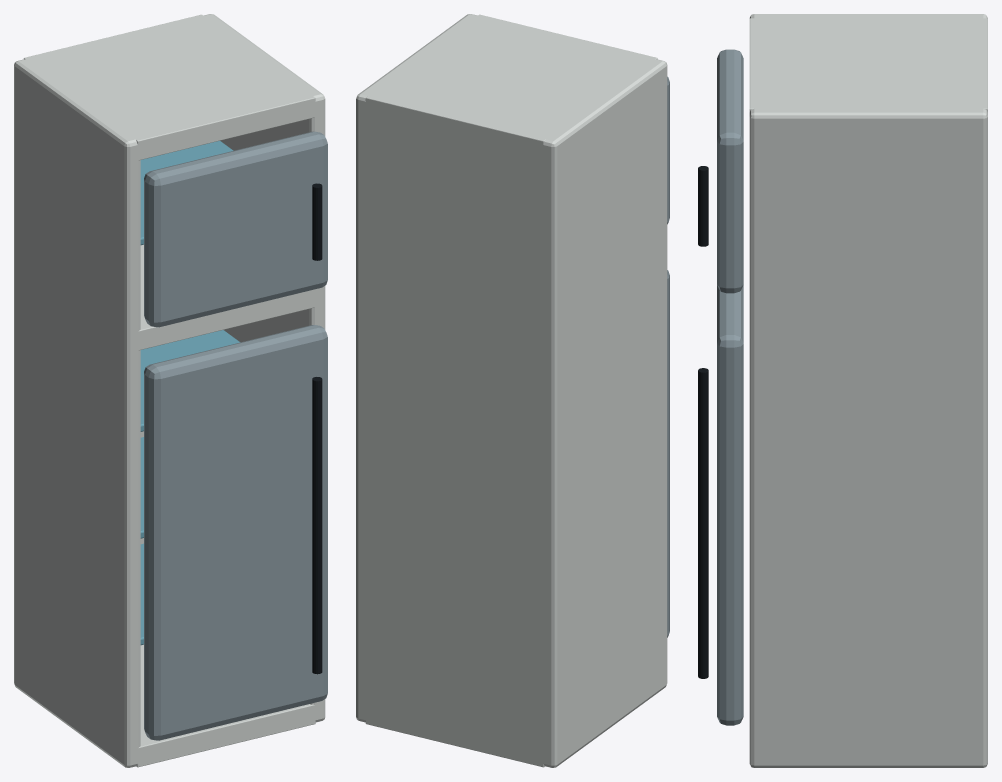
The picture shows the model from 3 angles, left to right: view 1: azimuth 30°, elevation 25°; view 2: azimuth 150°, elevation 25°; view 3: azimuth 270°, elevation 25°; orthographic projection. The views are drawn at different scales.
Parts seen in each view (by area): view 1: BODY_Side.001, DOOR_Panel, DOOR_Panel.001, BODY_Slab, BODY_Side, BODY_Slab.001, BODY_Slab.002, HANDLE, INTERIOR_Shelf.002, INTERIOR_Shelf.003, HANDLE.001; view 2: BODY_Back, BODY_Side.001, BODY_Slab, BODY_Side, BODY_Slab.001, BODY_Slab.002, DOOR_Panel; view 3: BODY_Side, BODY_Slab, DOOR_Panel, DOOR_Panel.001, HANDLE, BODY_Side.001, HANDLE.001.
Boxes of the visible parts, x1,y1,x2,y2 form: BODY_Side.001: [14, 59, 140, 767]; DOOR_Panel: [144, 325, 327, 740]; DOOR_Panel.001: [144, 131, 327, 327]; BODY_Slab: [24, 14, 315, 160]; BODY_Side: [204, 14, 325, 722]; BODY_Slab.001: [136, 644, 315, 767]; BODY_Slab.002: [138, 244, 315, 350]; HANDLE: [312, 377, 322, 674]; INTERIOR_Shelf.002: [140, 330, 240, 431]; INTERIOR_Shelf.003: [140, 141, 233, 245]; HANDLE.001: [312, 183, 322, 260]; BODY_Back: [365, 91, 550, 767]; BODY_Side.001: [543, 59, 667, 767]; BODY_Slab: [366, 14, 657, 159]; BODY_Side: [356, 14, 477, 722]; BODY_Slab.001: [365, 705, 544, 767]; BODY_Slab.002: [366, 288, 543, 349]; DOOR_Panel: [667, 270, 669, 637]; BODY_Side: [749, 108, 987, 767]; BODY_Slab: [749, 18, 987, 111]; DOOR_Panel: [717, 285, 743, 725]; DOOR_Panel.001: [717, 49, 743, 293]; HANDLE: [698, 368, 708, 678]; BODY_Side.001: [750, 14, 987, 18]; HANDLE.001: [698, 166, 708, 246].
Size of the model in its own units: 0.63 by 1.88 by 0.754.
